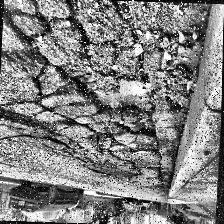pothole: (58, 58, 160, 140)
